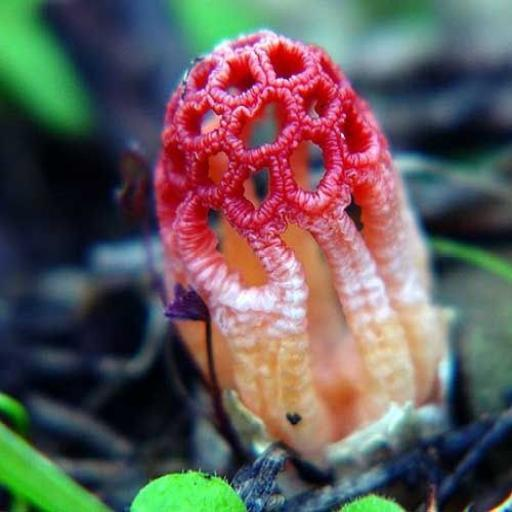mushroom: (157, 29, 453, 461)
